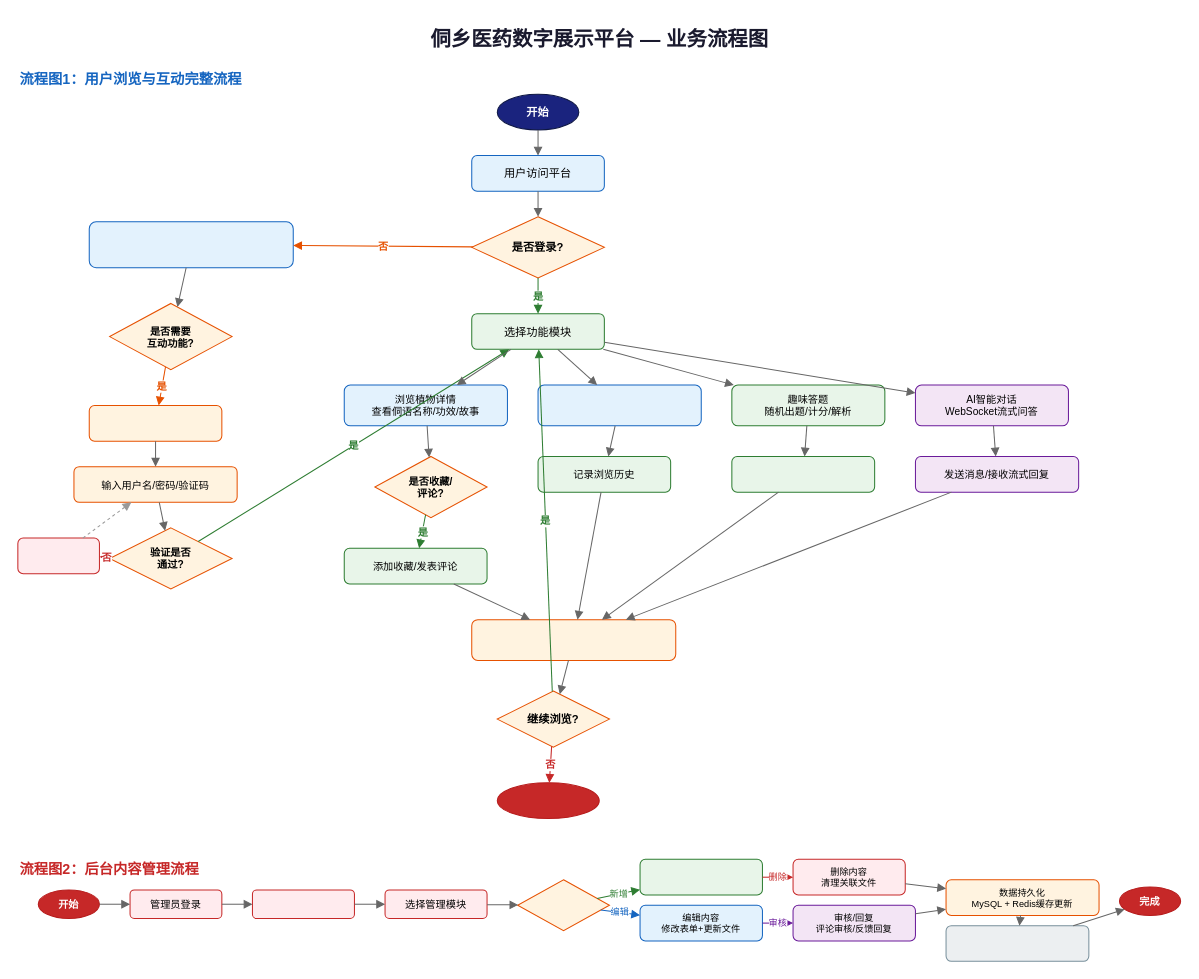
This 1199x979 diagram has some shape labels left out. The shapes that lost their labels are listed below. From the top down, each one's box as (x1, y1, x2, y2) in pixels, then its label:
(88, 221, 293, 268): 浏览公开内容 (植物/知识/传承人/问答/资源)
(88, 404, 222, 441): 弹出登录对话框
(537, 384, 701, 426): 浏览知识详情 查看疗法/处方/步骤
(731, 455, 875, 492): 提交答案/查看得分
(17, 537, 99, 574): 显示错误提示
(471, 619, 676, 660): 更新个人中心数据 (浏览历史/收藏/答题记录)
(496, 782, 599, 819): 退出平台
(639, 858, 762, 895): 新增内容 填写表单+上传文件
(251, 889, 354, 919): 进入管理后台
(517, 879, 609, 931): 操作类型?
(945, 925, 1089, 961): 记录操作日志 (RabbitMQ异步)
